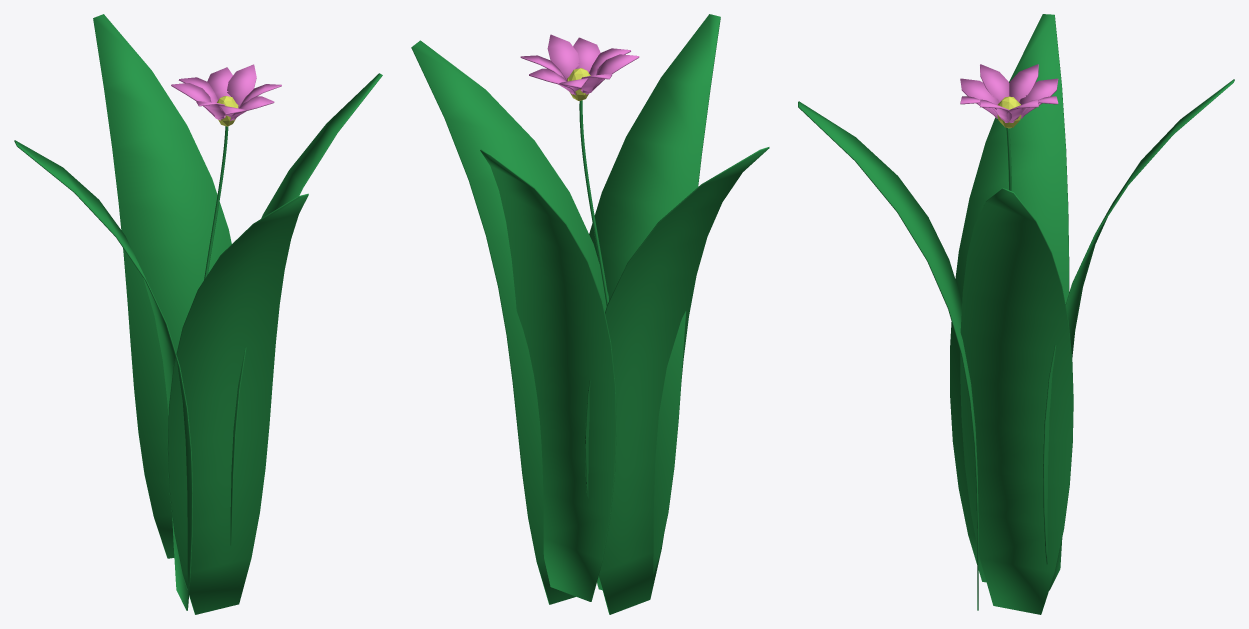
Rendered from flowerpatch 2.fbx.
3 views of the same model, side by side, from view 1: azimuth 30°, elevation 25°; view 2: azimuth 150°, elevation 25°; view 3: azimuth 270°, elevation 25° (orthographic). The views are drawn at different scales.
Parts seen in each view (by area): view 1: NurbsPath, NurbsPath.002, NurbsPath.001; view 2: NurbsPath, NurbsPath.002, NurbsPath.001; view 3: NurbsPath, NurbsPath.002.
Boxes of the visible parts, bbox=[...] form: NurbsPath: bbox=[14, 14, 382, 614]; NurbsPath.002: bbox=[171, 64, 281, 120]; NurbsPath.001: bbox=[204, 126, 228, 279]; NurbsPath: bbox=[411, 14, 769, 614]; NurbsPath.002: bbox=[520, 34, 639, 95]; NurbsPath.001: bbox=[579, 100, 608, 305]; NurbsPath: bbox=[798, 14, 1234, 614]; NurbsPath.002: bbox=[960, 64, 1058, 122].
Size of the model in its own units: 306 by 425 by 319.
